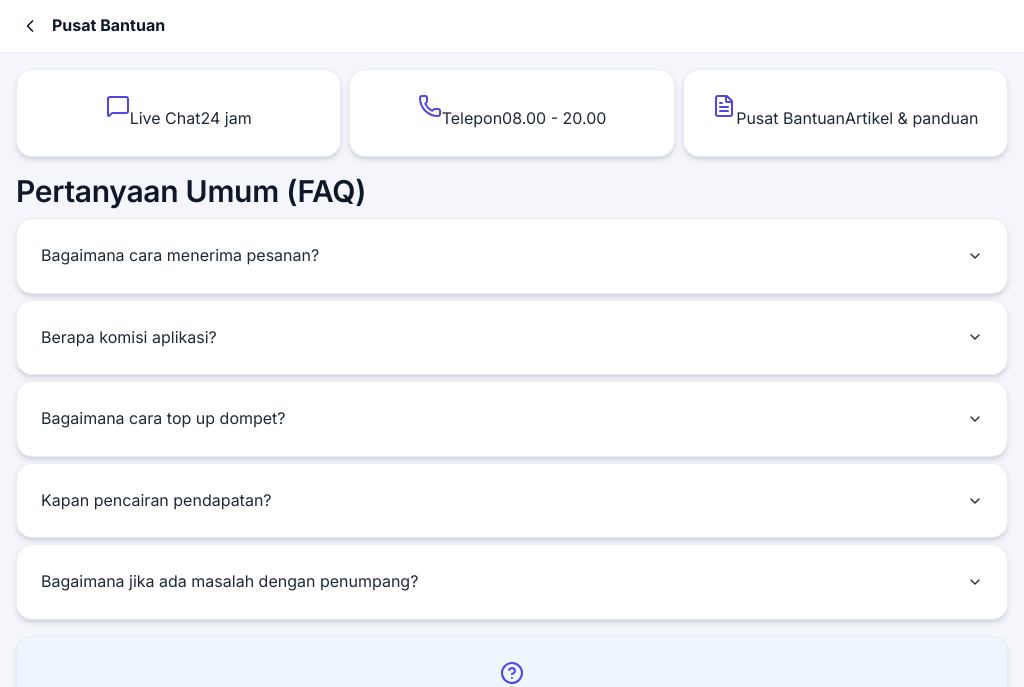
Test: SupportCenter › toggles FAQ answer on click
Click the button "Bagaimana cara menerima pesanan?". click: (180, 255)
box: [16, 218, 1008, 294]
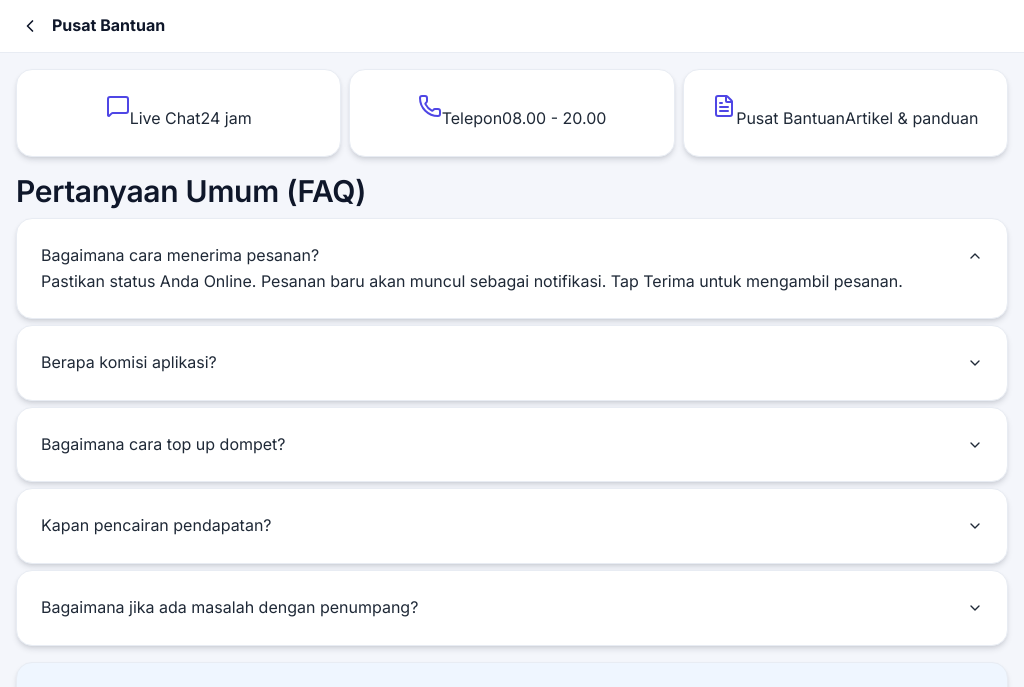
Result: the text "Pastikan status Anda Online" is shown at [41, 271, 903, 291]
